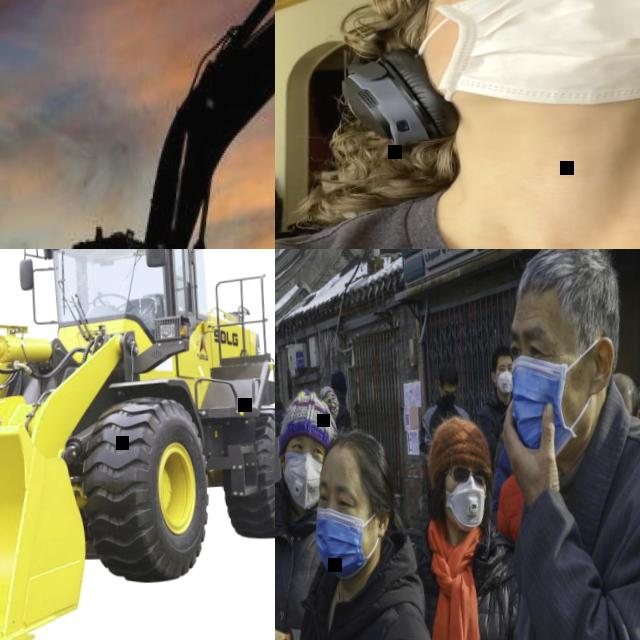Mask: (398, 0, 640, 121), (506, 353, 578, 468), (312, 504, 370, 584), (280, 449, 324, 513), (446, 477, 489, 536), (496, 371, 514, 397), (441, 393, 456, 411)
NO-Hardhat: (513, 249, 622, 339), (318, 428, 392, 496), (424, 416, 492, 476), (275, 385, 338, 445), (612, 372, 636, 413), (438, 362, 460, 385), (491, 342, 512, 361), (329, 368, 347, 387), (632, 390, 640, 416), (275, 399, 284, 413)
NO-Safety Vest: (476, 423, 640, 640), (275, 169, 640, 249), (400, 523, 520, 640), (275, 504, 333, 640), (484, 408, 512, 457), (338, 404, 349, 427), (275, 411, 284, 434)
Person: (275, 0, 640, 249), (275, 386, 362, 640), (327, 371, 354, 435), (275, 393, 286, 434)
vehicle: (0, 249, 275, 640), (0, 0, 275, 249)
